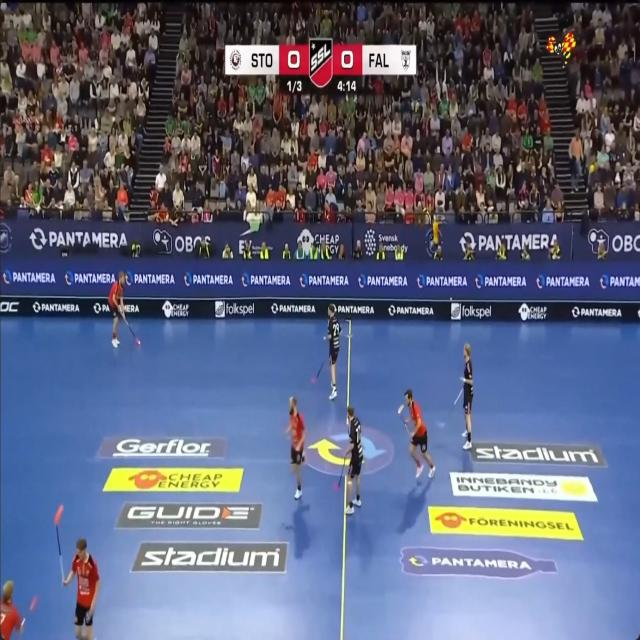player: (63, 539, 100, 639), (404, 390, 435, 477), (286, 396, 305, 499), (345, 407, 363, 514), (325, 304, 341, 399), (0, 580, 23, 639), (108, 271, 125, 347), (461, 344, 473, 450)
